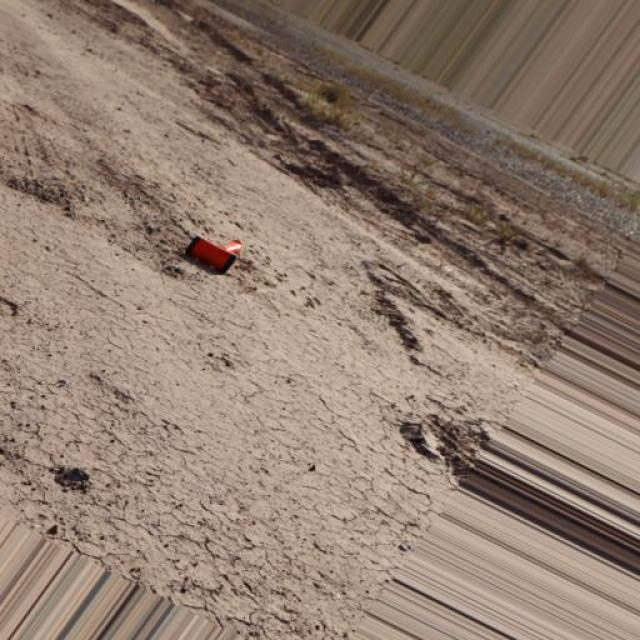mallet: (182, 234, 242, 274)
